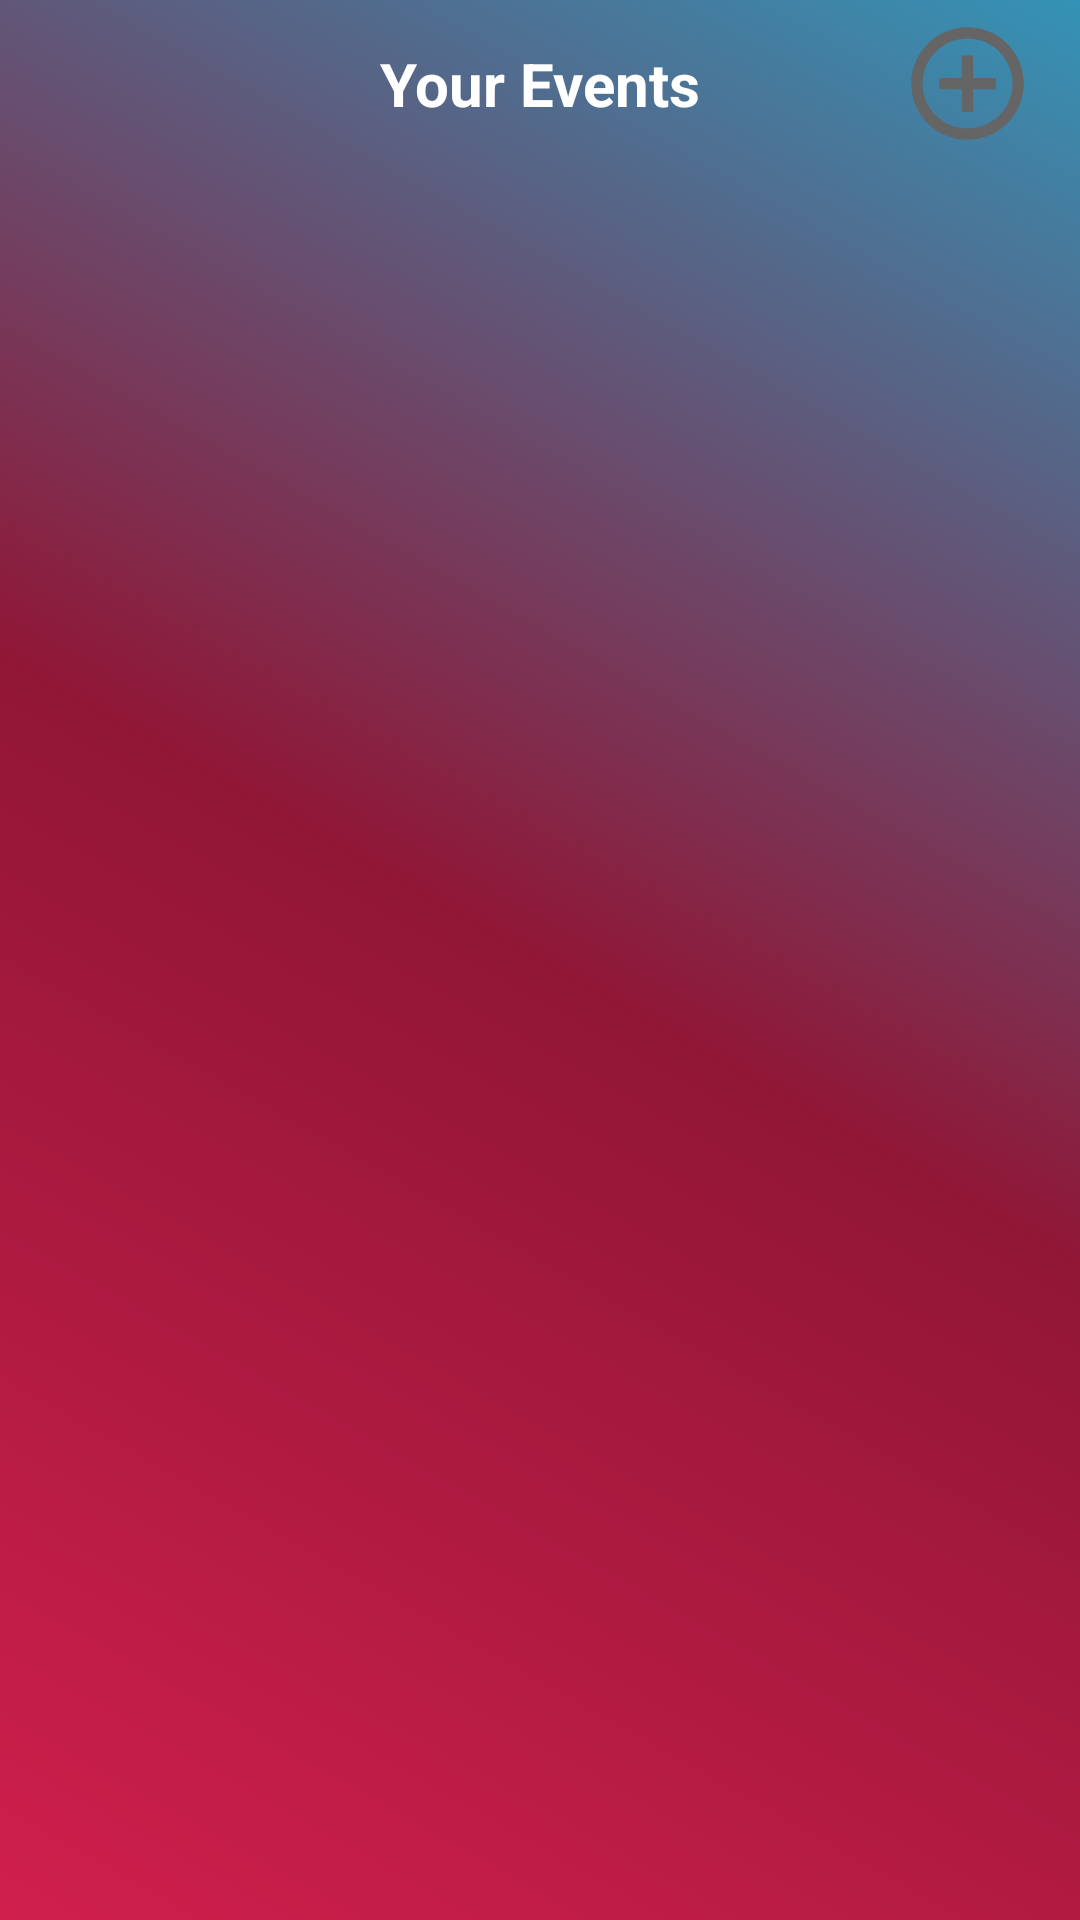

Named icons in this screenshot (1080x1920) and their centers, (x,y):
add event: (967,83)
